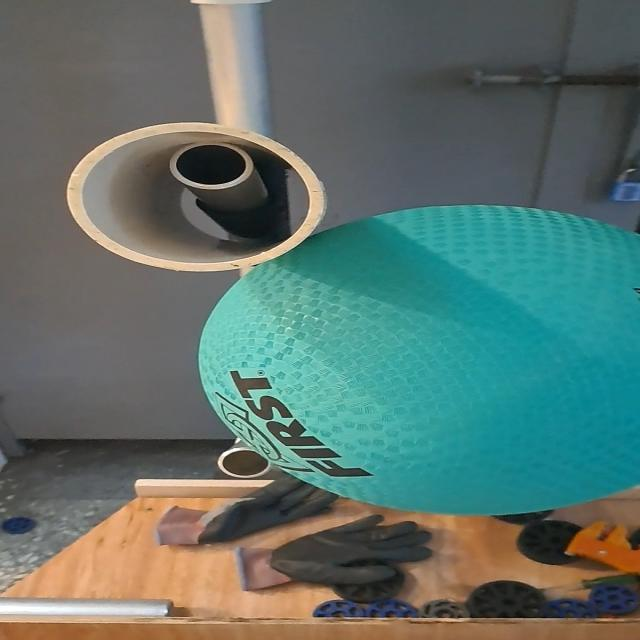ALGAE: (197, 203, 640, 518)
CORAL: (56, 120, 334, 273)
